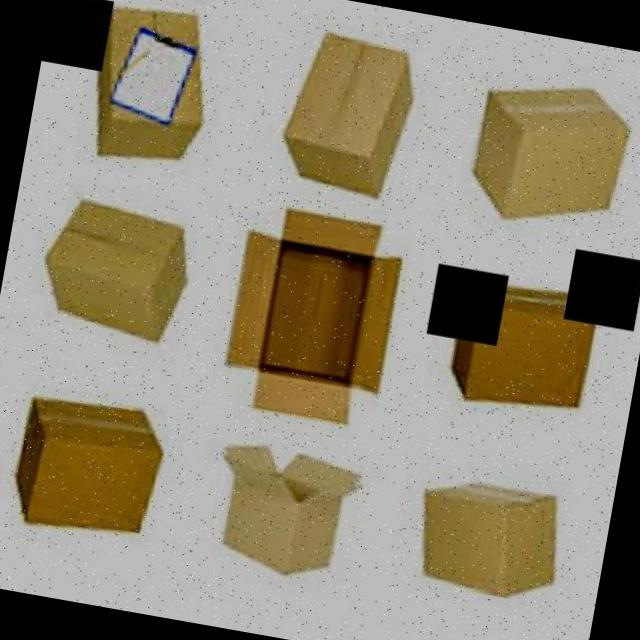box: (206, 198, 415, 434), (8, 190, 206, 358), (192, 433, 380, 606), (454, 64, 637, 238), (420, 268, 608, 427), (0, 379, 174, 548), (268, 23, 427, 206), (398, 468, 572, 608)
